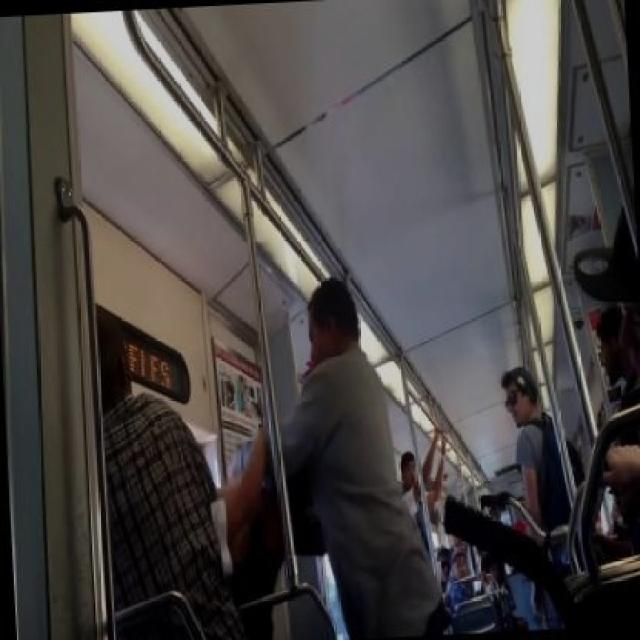fight: (81, 270, 454, 638)
non-fight: (494, 357, 592, 634)
